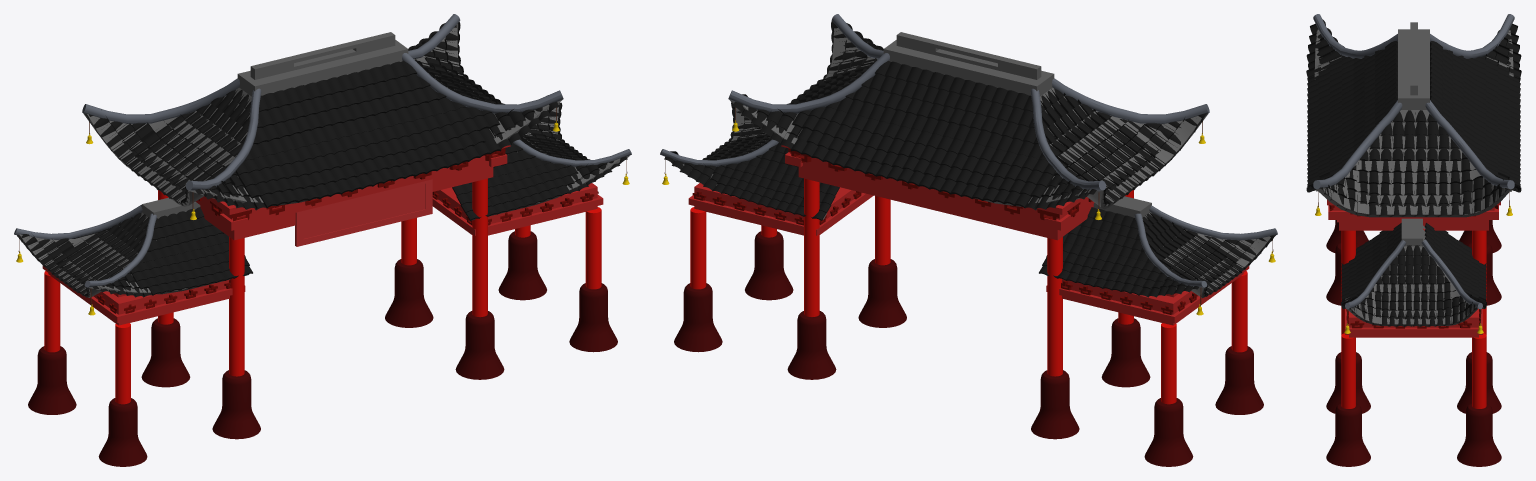
Rendered from torri_gate.glb.
The picture shows the model from 3 angles, left to right: view 1: azimuth 30°, elevation 25°; view 2: azimuth 150°, elevation 25°; view 3: azimuth 270°, elevation 25°; orthographic projection. The views are drawn at different scales.
Parts seen in each view (by area): view 1: Object_12, Object_5, Object_9, Object_4, Object_6, Object_10, Object_8, Object_7; view 2: Object_12, Object_5, Object_9, Object_4, Object_6, Object_10, Object_7; view 3: Object_12, Object_9, Object_5, Object_10, Object_4, Object_6, Object_7.
Boxes of the visible parts, left/top/right/bottom form: Object_12: left=17, top=21, right=627, bottom=297; Object_5: left=28, top=231, right=617, bottom=466; Object_9: left=19, top=24, right=629, bottom=297; Object_4: left=42, top=145, right=603, bottom=325; Object_6: left=44, top=178, right=601, bottom=404; Object_10: left=14, top=14, right=631, bottom=287; Object_8: left=295, top=179, right=432, bottom=246; Object_7: left=97, top=148, right=598, bottom=313; Object_12: left=664, top=21, right=1275, bottom=297; Object_5: left=674, top=231, right=1263, bottom=466; Object_9: left=682, top=28, right=1270, bottom=298; Object_4: left=688, top=145, right=1249, bottom=325; Object_6: left=690, top=178, right=1247, bottom=404; Object_10: left=660, top=14, right=1277, bottom=287; Object_7: left=692, top=148, right=1197, bottom=314; Object_12: left=1306, top=19, right=1521, bottom=326; Object_9: left=1314, top=22, right=1513, bottom=325; Object_5: left=1326, top=220, right=1501, bottom=466; Object_10: left=1313, top=14, right=1514, bottom=309; Object_4: left=1327, top=199, right=1500, bottom=337; Object_6: left=1341, top=230, right=1486, bottom=408; Object_7: left=1329, top=205, right=1498, bottom=328.
Size of the model in its own units: 9.75 by 5.5 by 3.6.
